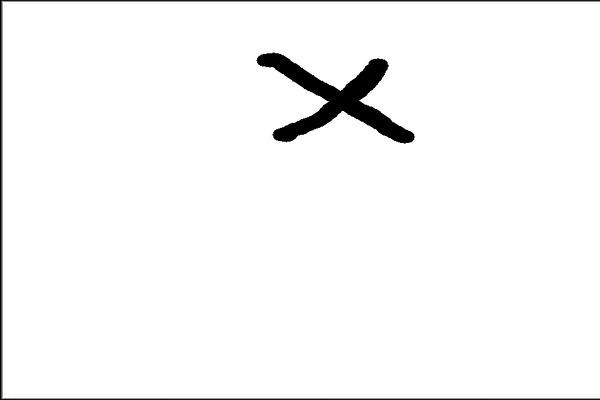X: (235, 36, 438, 173)
